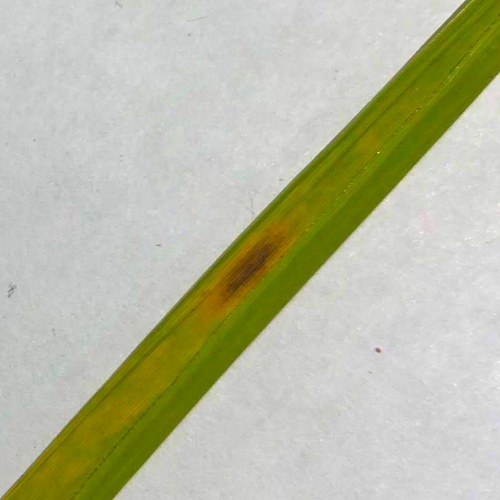Bercak Coklat: (214, 231, 285, 311)
